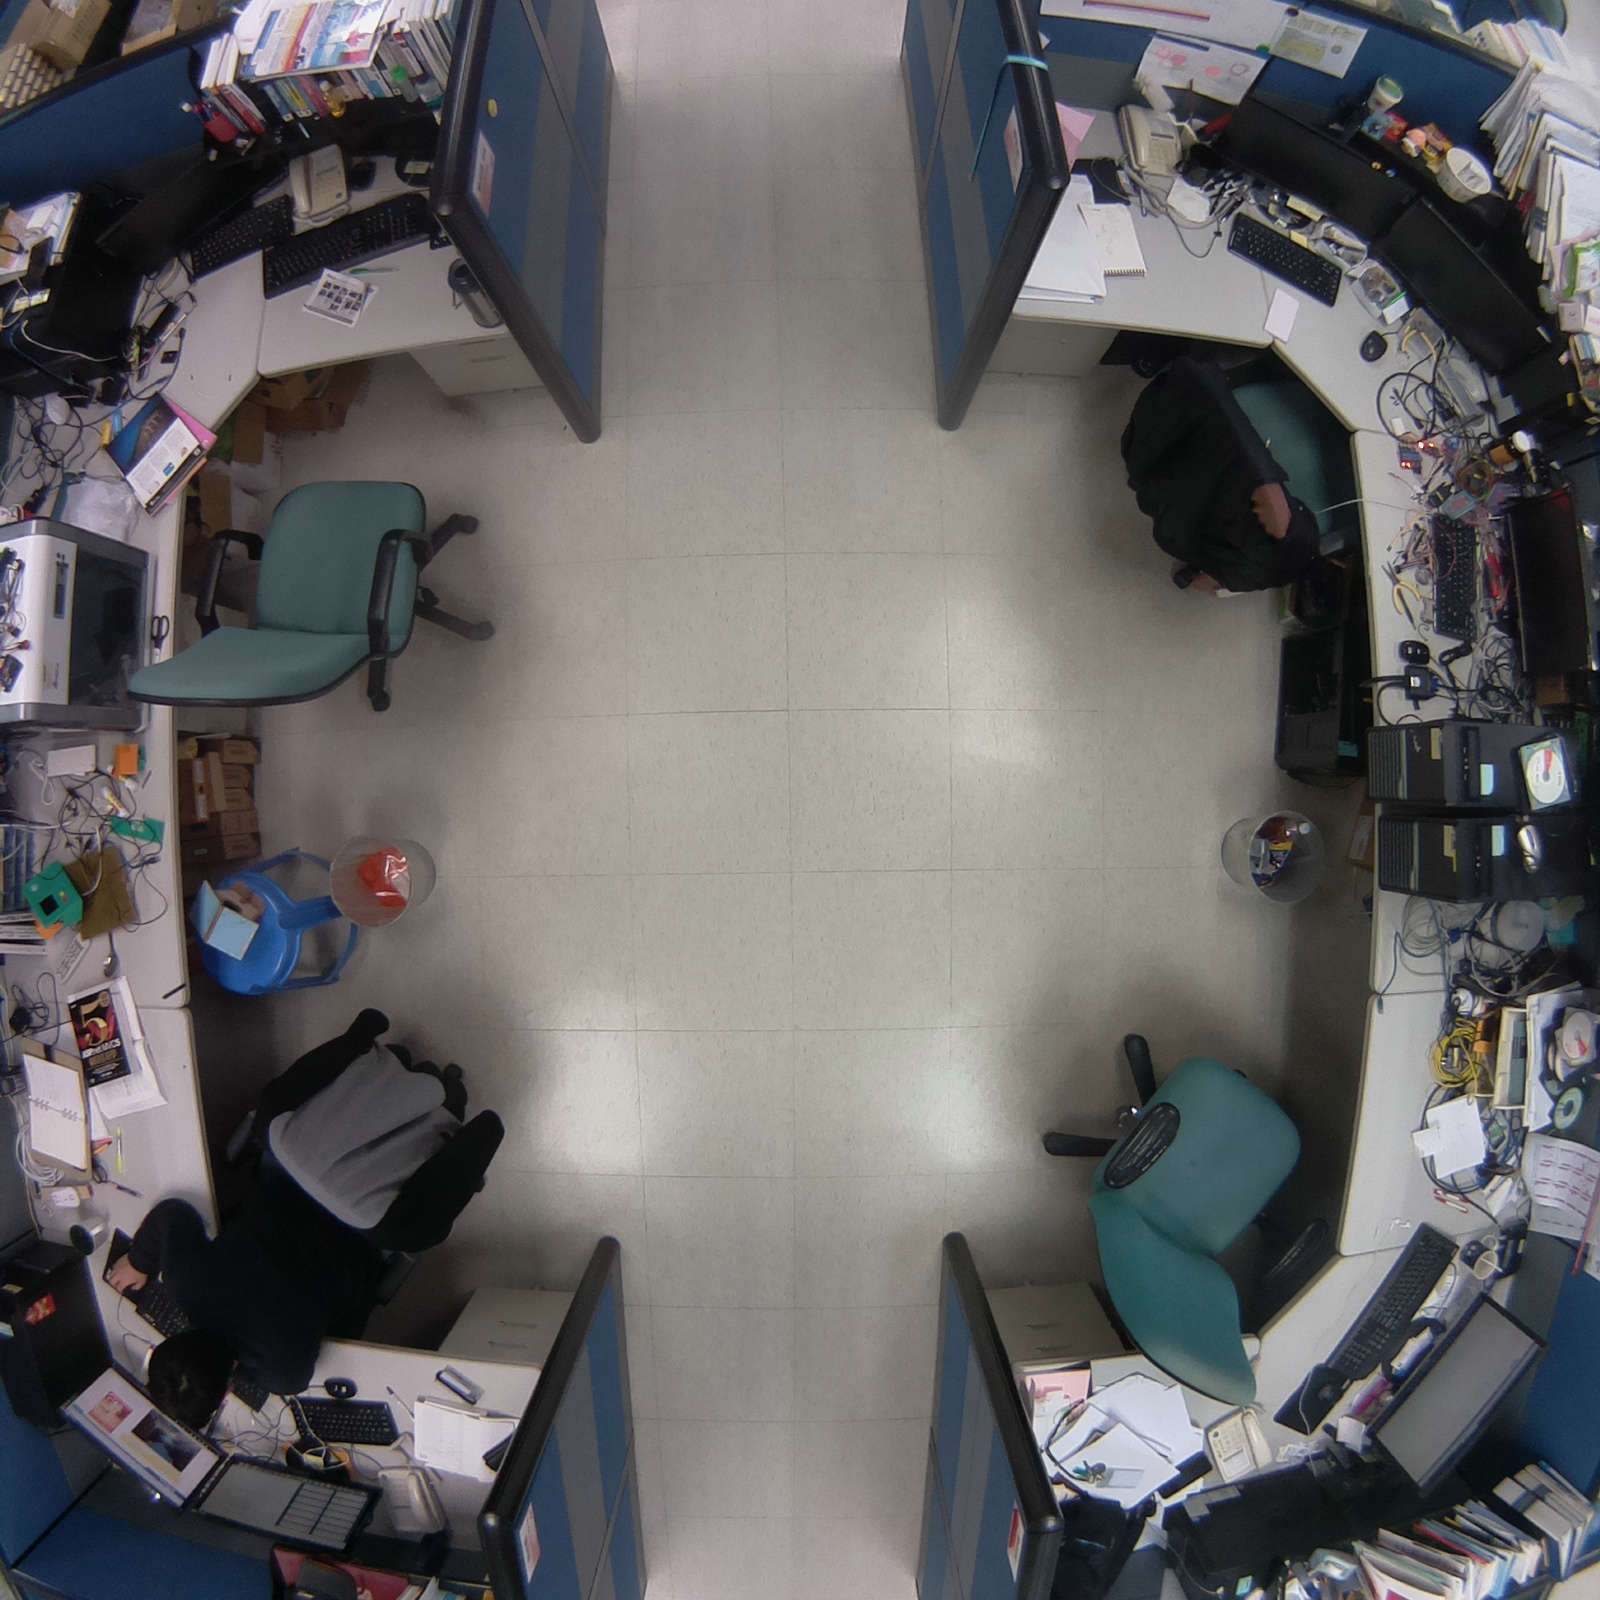chair: (1012, 1011, 1340, 1445), (99, 437, 506, 747), (1096, 304, 1388, 634)
head: (140, 1329, 238, 1434)
sitting: (90, 988, 537, 1440)
